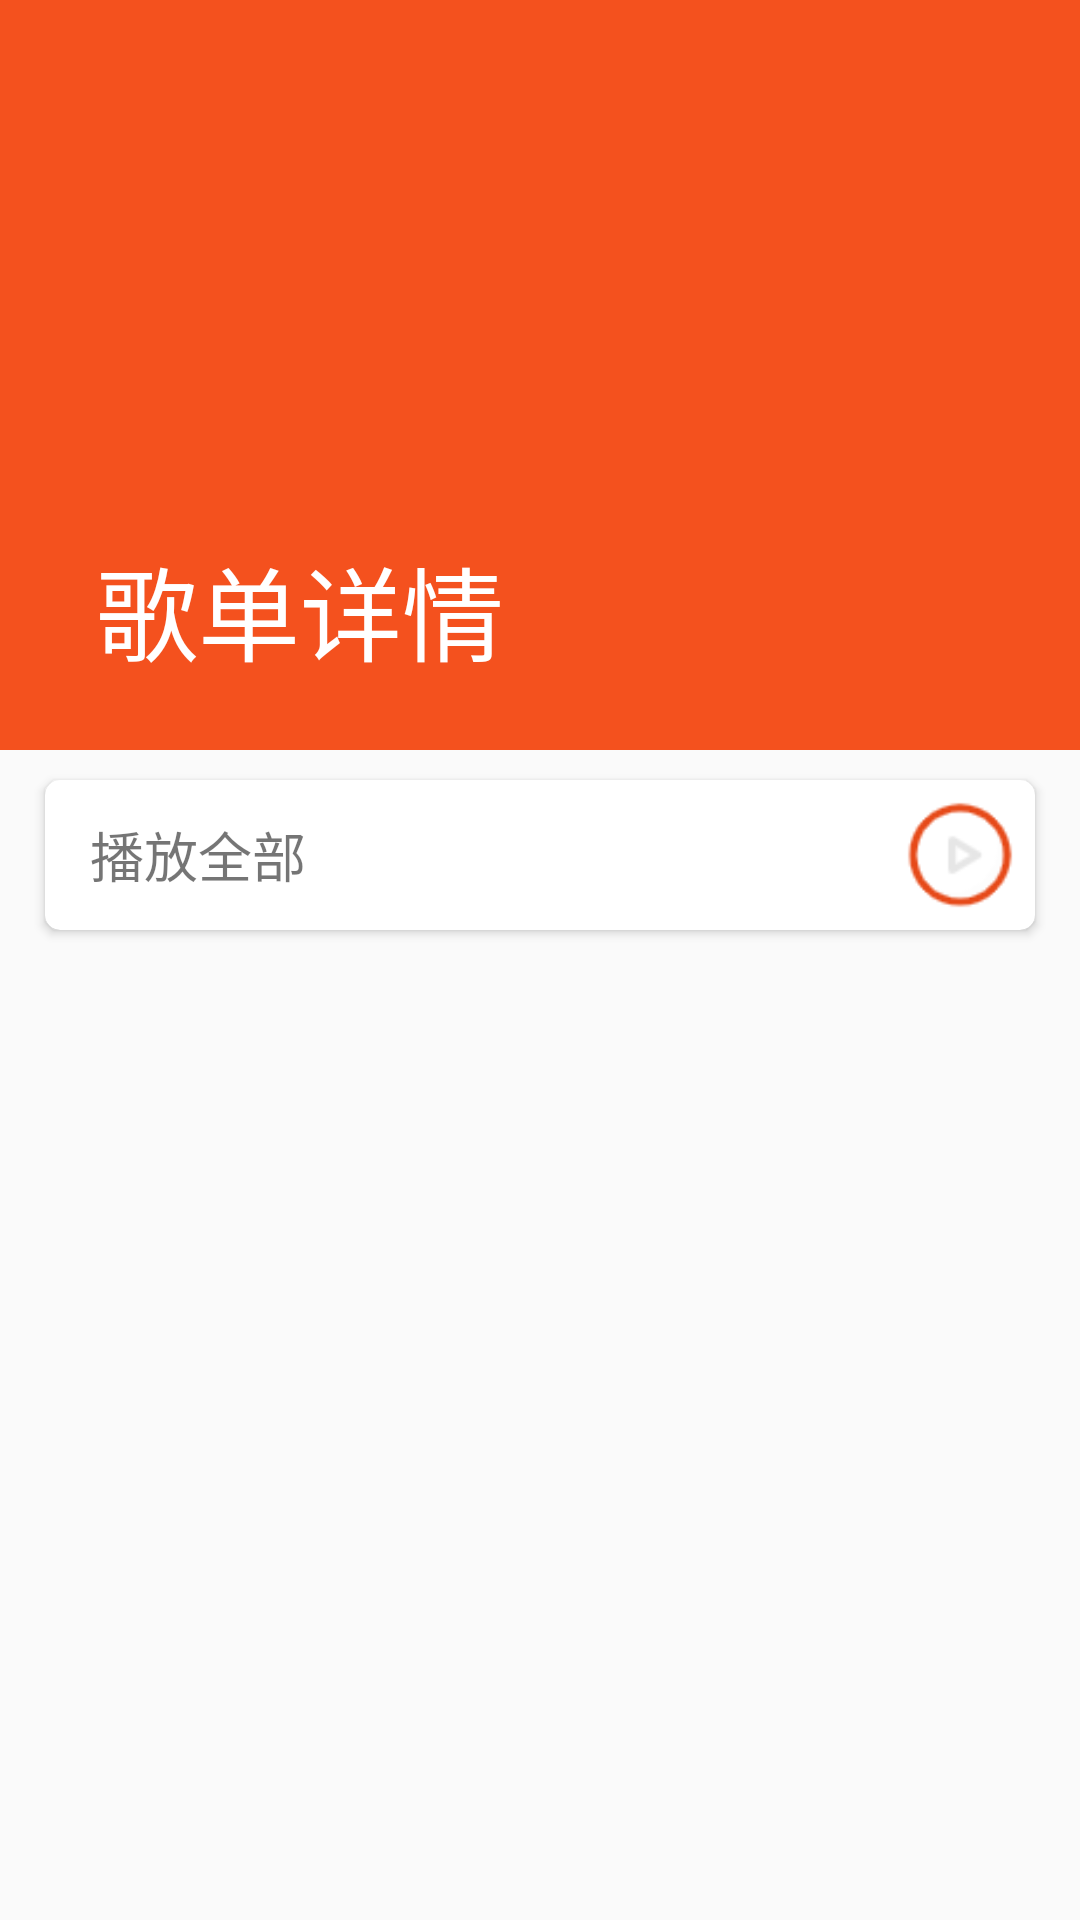

Icons on this 1080px×1920px Android screen, each with the point to tap as (x,y):
play all: (960,855)
